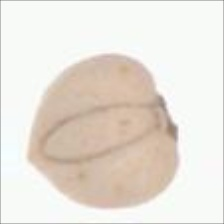L5: (38, 99, 164, 168), (23, 129, 58, 179), (155, 88, 181, 146)
L6: (23, 52, 182, 210)
